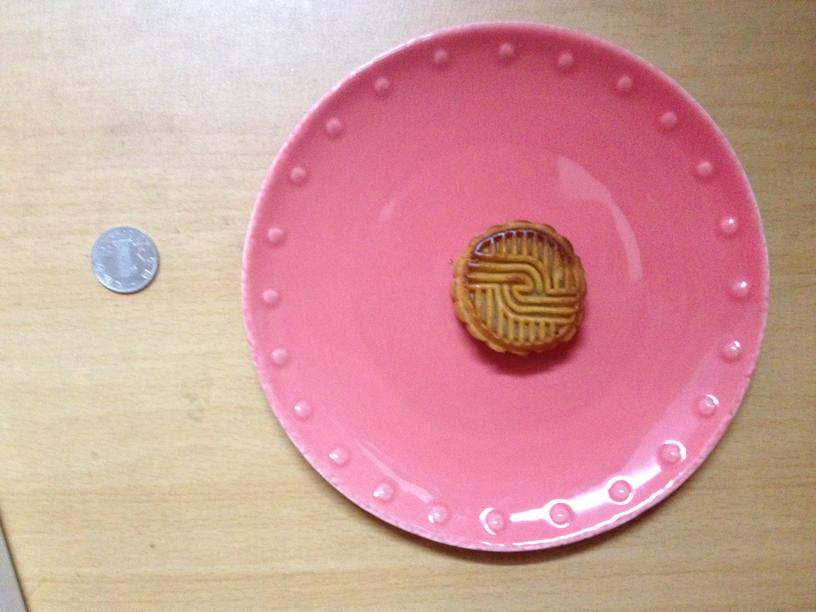coin: (91, 228, 157, 293)
mooncake: (448, 220, 587, 356)
